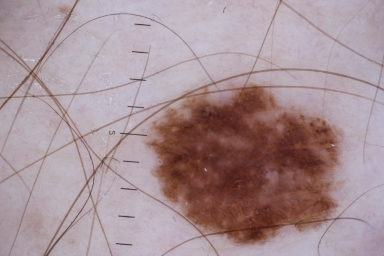nevus: (150, 86, 339, 243)
